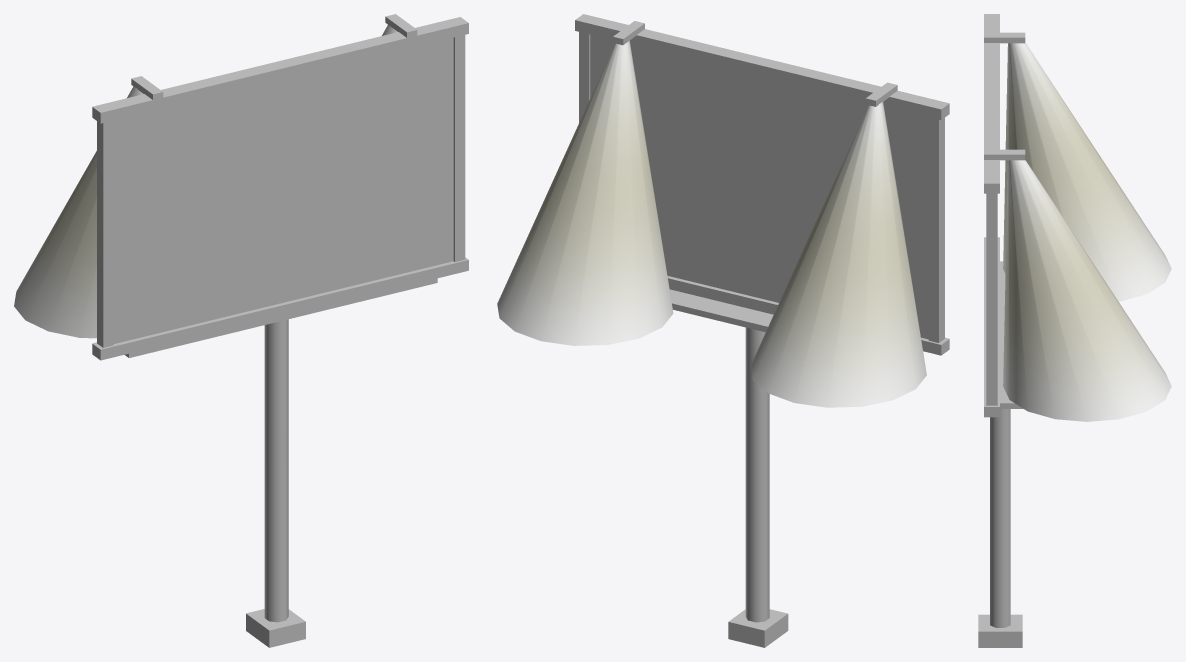
The model's file is Viveska Stolb.fbx.
3 renders of one model, left to right at view 1: azimuth 30°, elevation 25°; view 2: azimuth 150°, elevation 25°; view 3: azimuth 270°, elevation 25°, orthographic. The views are drawn at different scales.
Visible parts, largest first — view 1: Viveska Stolb; view 2: Viveska Stolb; view 3: Viveska Stolb.
Boxes of the visible parts, bbox=[...] form: Viveska Stolb: bbox=[14, 14, 468, 647]; Viveska Stolb: bbox=[497, 14, 949, 647]; Viveska Stolb: bbox=[978, 14, 1171, 647].
Bounding box in the file's own units: 5.24 × 7.07 × 2.27.
